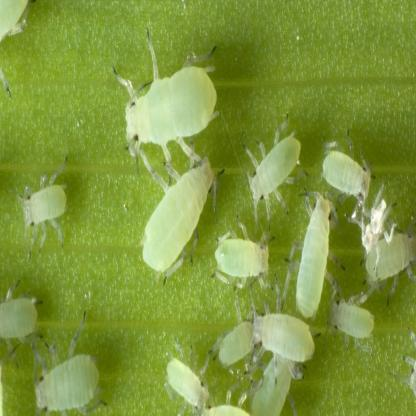aphid: (120, 41, 223, 167), (132, 149, 218, 287), (294, 174, 336, 321), (32, 335, 106, 416), (248, 118, 304, 220), (248, 290, 317, 368), (213, 219, 275, 302), (360, 203, 416, 287), (315, 131, 374, 209), (18, 161, 70, 244), (250, 335, 302, 416), (162, 333, 212, 416), (329, 272, 376, 356), (216, 296, 268, 363), (0, 279, 40, 351)
